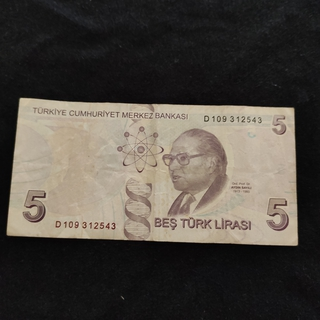5TLBack: (5, 96, 300, 247)
